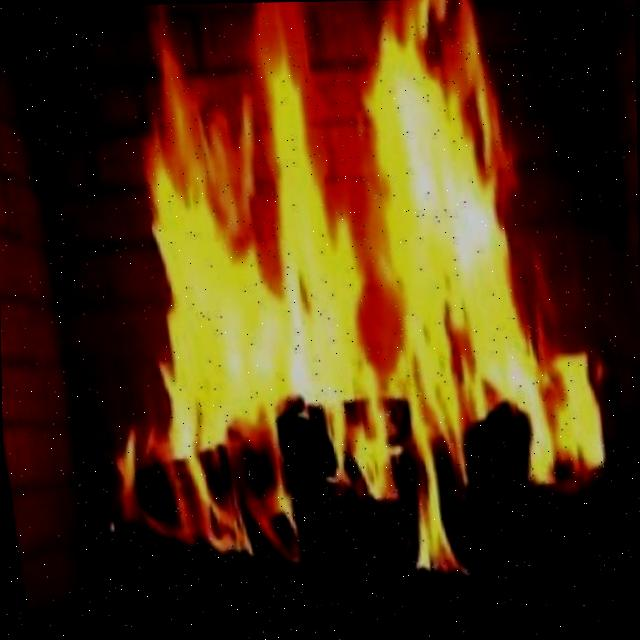fire: (125, 33, 574, 543)
